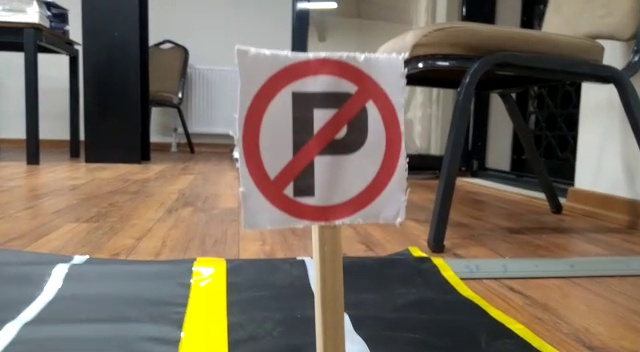park_yapilmaz: (239, 51, 406, 226)
